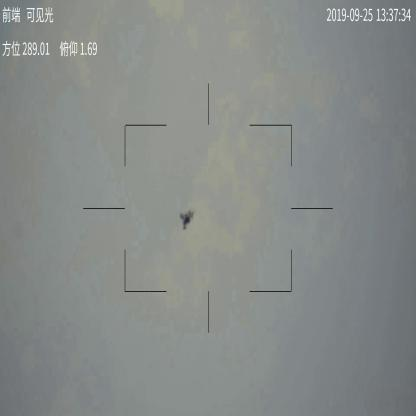uav: (178, 207, 194, 229)
